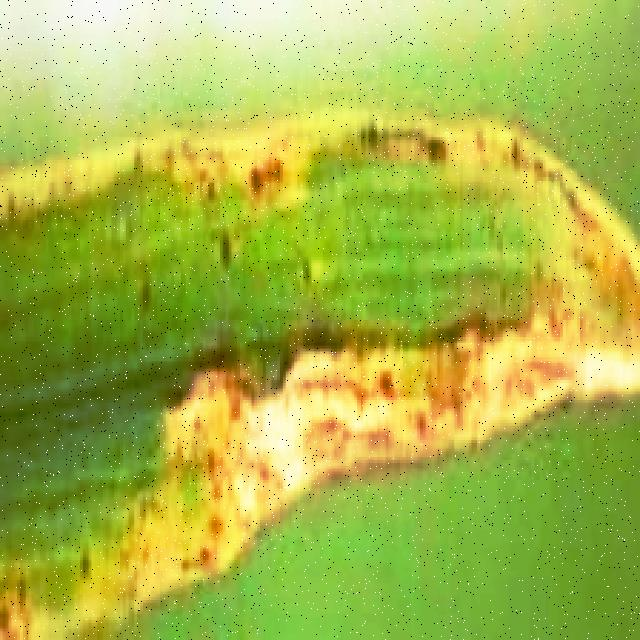unhealth: (0, 144, 640, 558)
